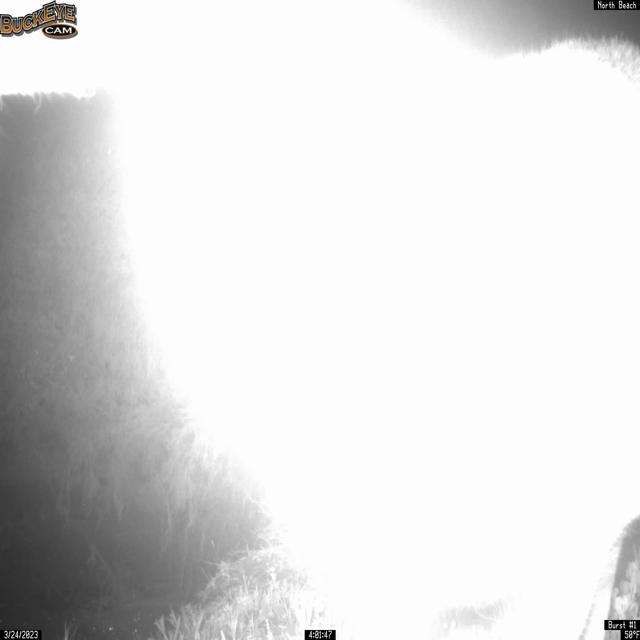deer: (13, 14, 626, 637)
